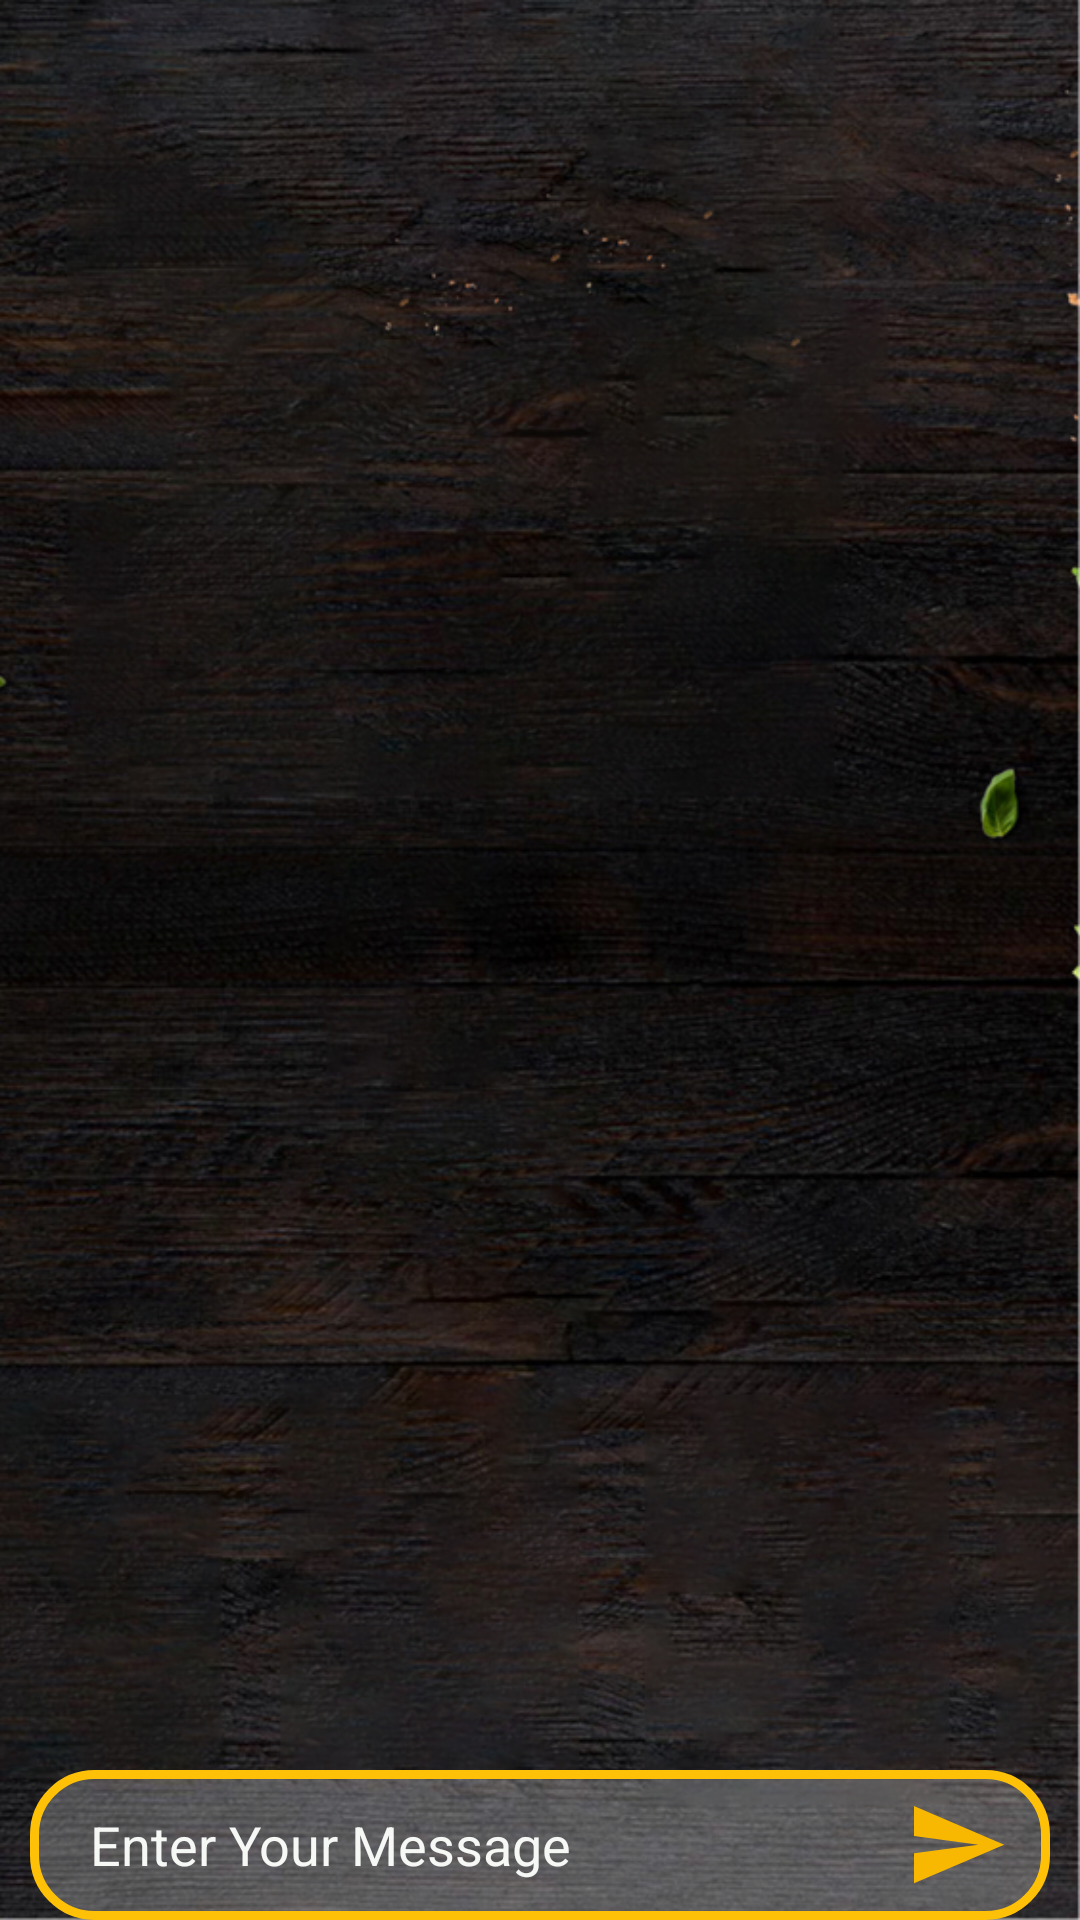

Locate icon controls on the screen. Image size 1080×1920, boxes as {"left": x1, "top": y1, "right": x2, "bottom": y2}.
send: {"left": 914, "top": 1806, "right": 1004, "bottom": 1883}
